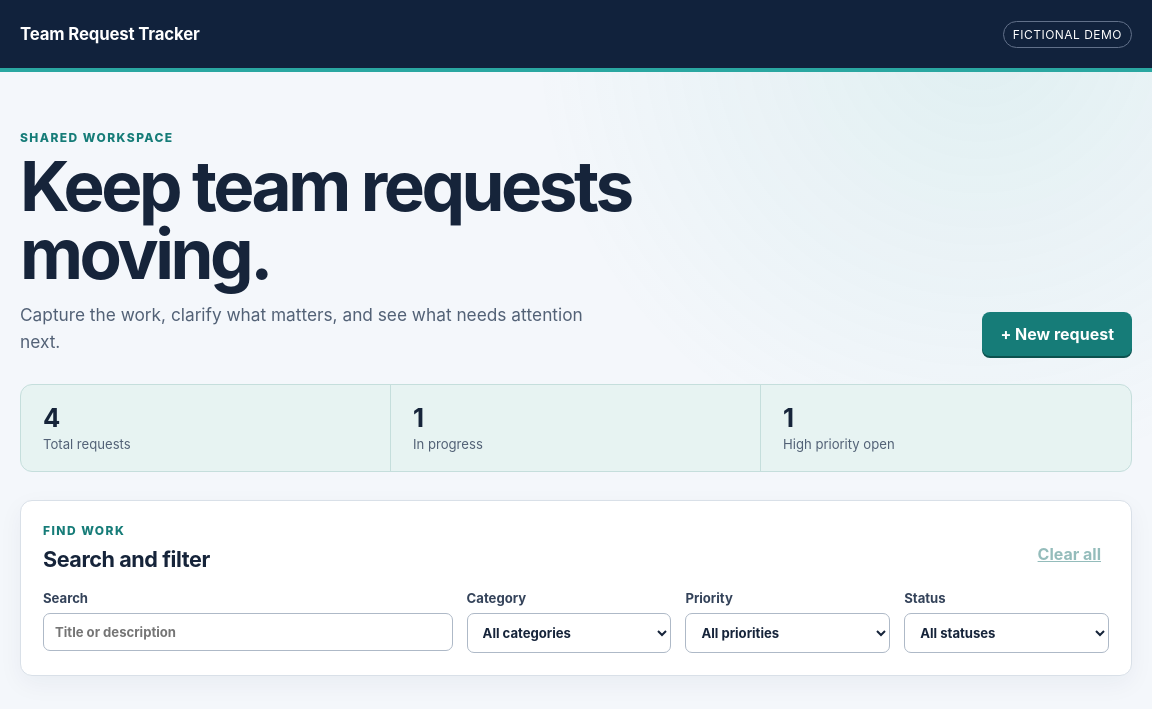
Test case: App › shows validation and no-results feedback
This screenshot has width=1152, height=709.
Click the button "+ New request": (1057, 334) [982, 312, 1132, 356]
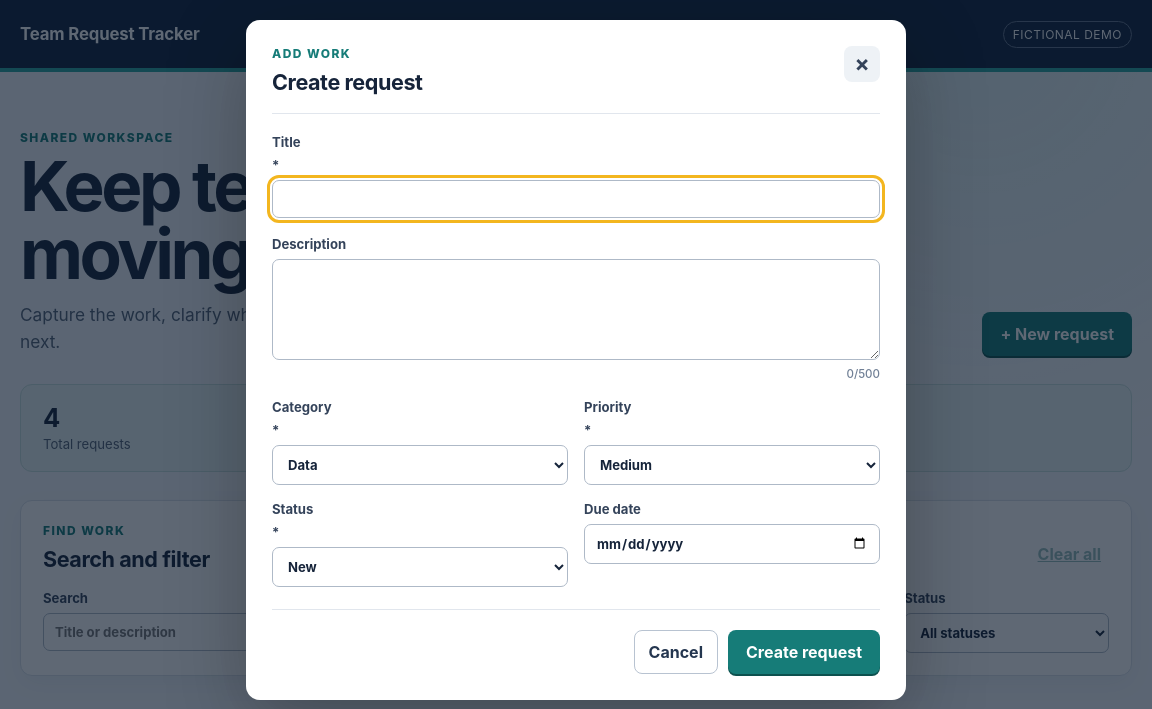
Click the button "Create request": (804, 652) [728, 630, 880, 674]
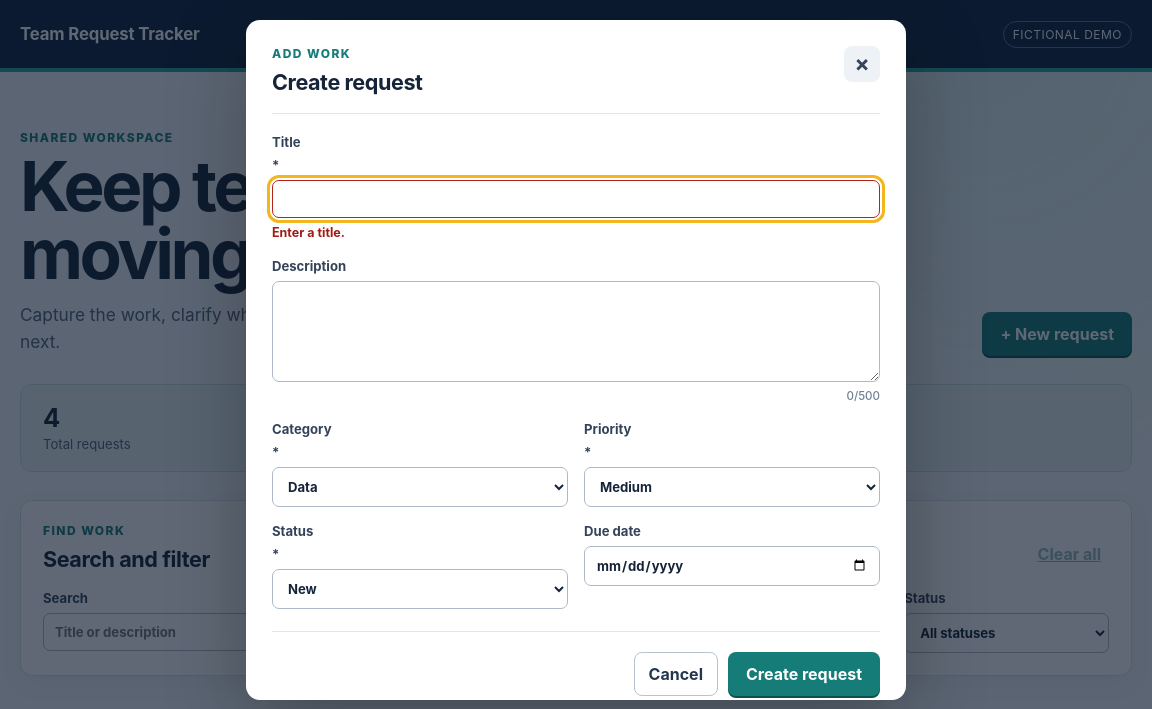
Expected: the text "Enter a title." is shown, [272, 225, 345, 240]
Click the button "Cancel": (676, 674) [634, 652, 718, 696]
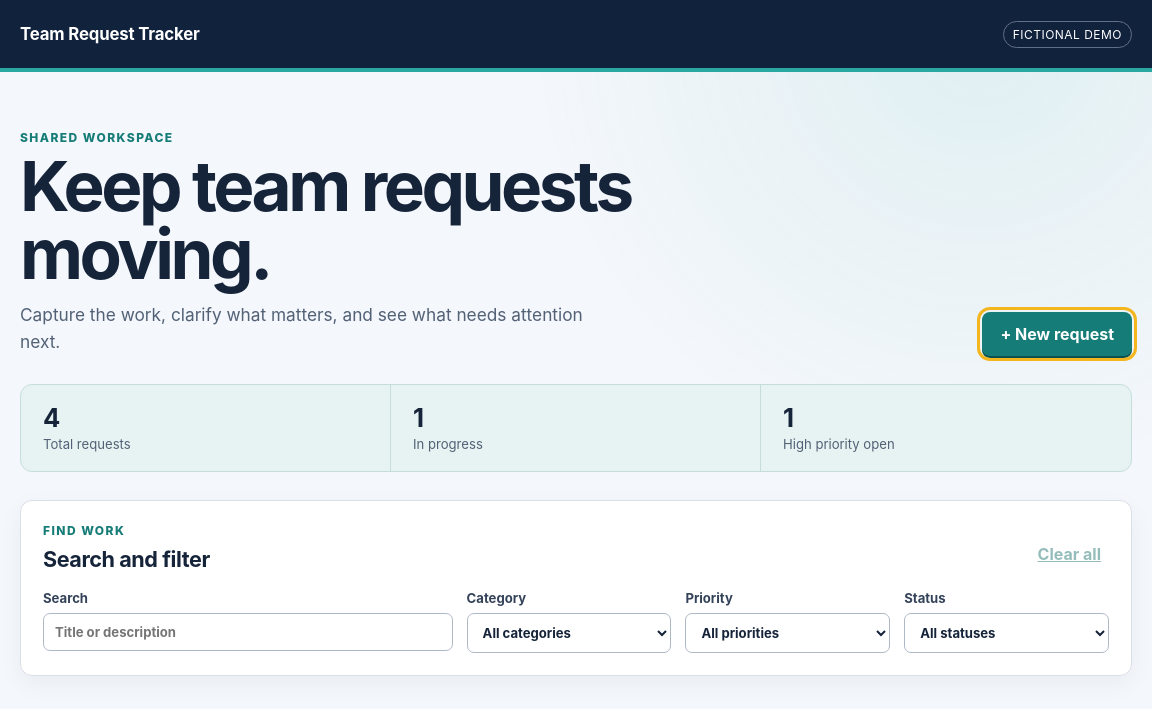
In the search field labelled "Search": (248, 632) [43, 613, 453, 651], type "never-find-this"
(page scrolled)
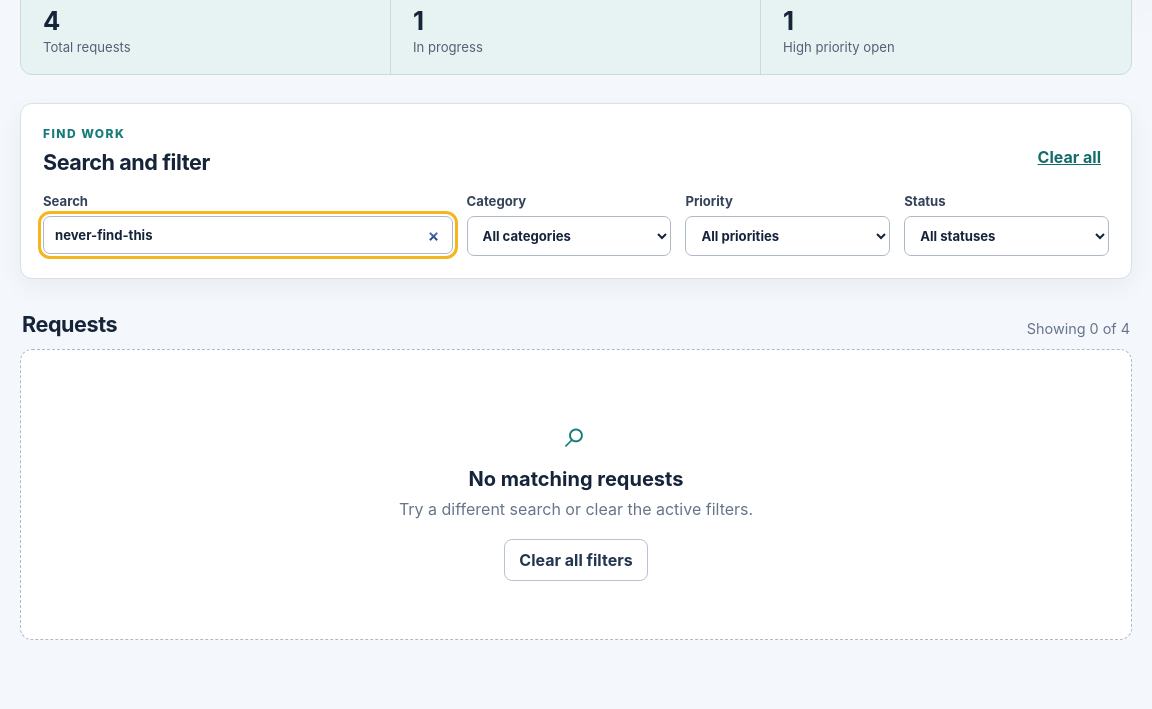
Expected: the heading "No matching requests" is shown, [469, 467, 683, 491]
